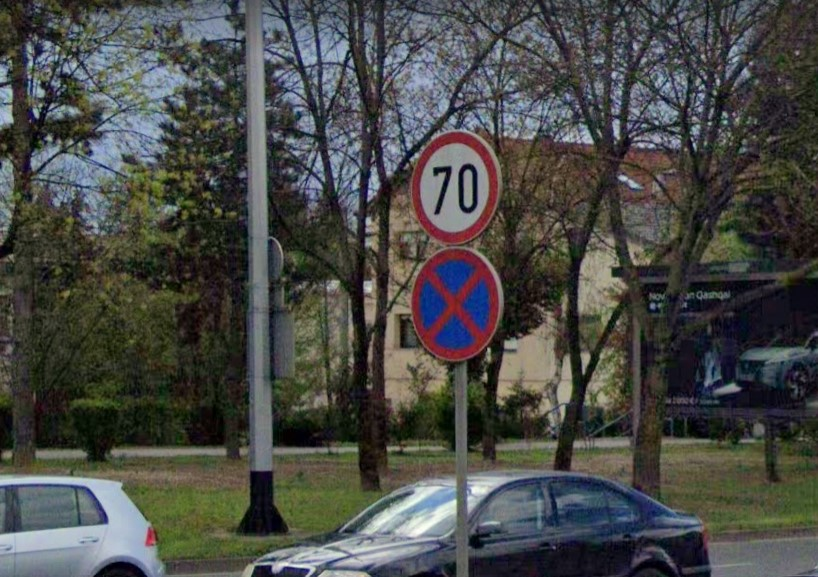Ograničenje brzine 70: (410, 131, 502, 246)
